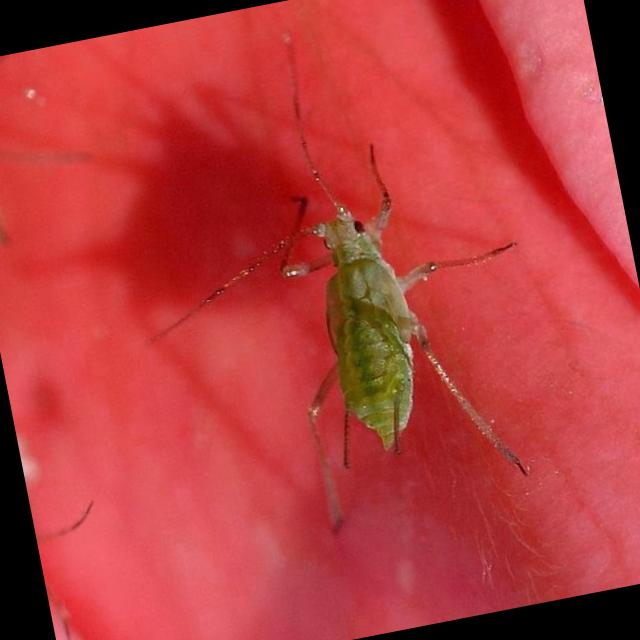aphid: (194, 121, 544, 548)
